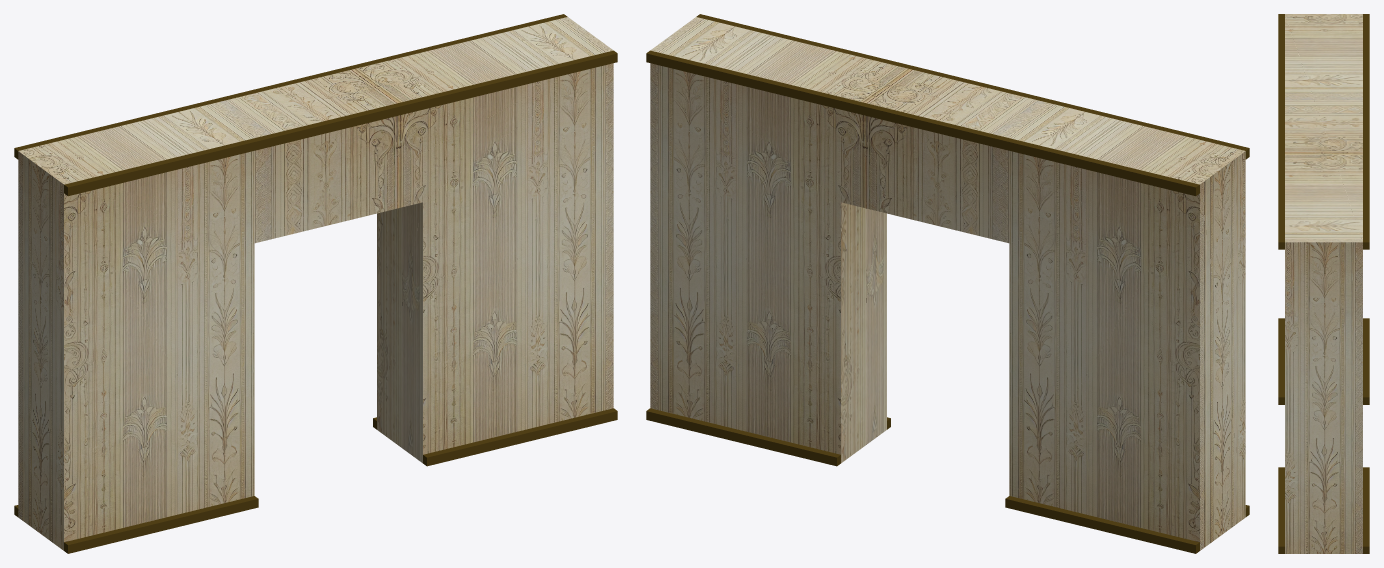
Rendered from Wall_Door.fbx.
3 renders of one model, left to right at view 1: azimuth 30°, elevation 25°; view 2: azimuth 150°, elevation 25°; view 3: azimuth 270°, elevation 25°, orthographic. The views are drawn at different scales.
Visible parts, largest first — view 1: Cube.082, Cube.080, Cube.081; view 2: Cube.082, Cube.080, Cube.081; view 3: Cube.082, Cube.080, Cube.081.
Part boxes in pixels (bbox=[...]): Cube.082: bbox=[18, 17, 613, 550]; Cube.080: bbox=[14, 14, 617, 196]; Cube.081: bbox=[14, 408, 617, 553]; Cube.082: bbox=[650, 17, 1245, 550]; Cube.080: bbox=[646, 14, 1249, 196]; Cube.081: bbox=[646, 408, 1249, 553]; Cube.082: bbox=[1285, 14, 1362, 553]; Cube.080: bbox=[1278, 14, 1369, 249]; Cube.081: bbox=[1278, 318, 1369, 553].
Bounding box in the file's own units: 1381 × 880 × 234.
